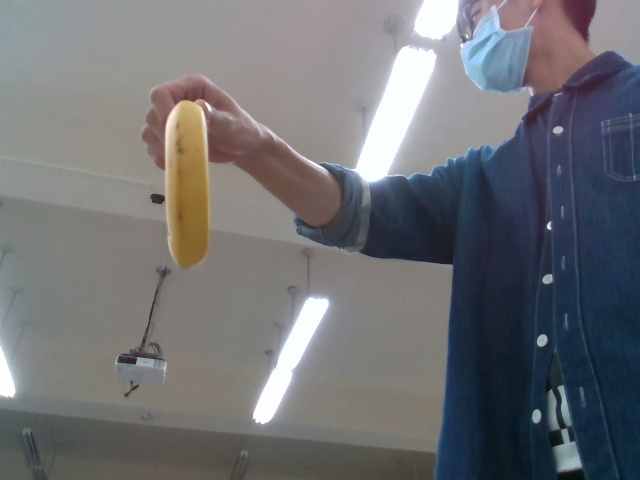banana: (160, 99, 212, 273)
